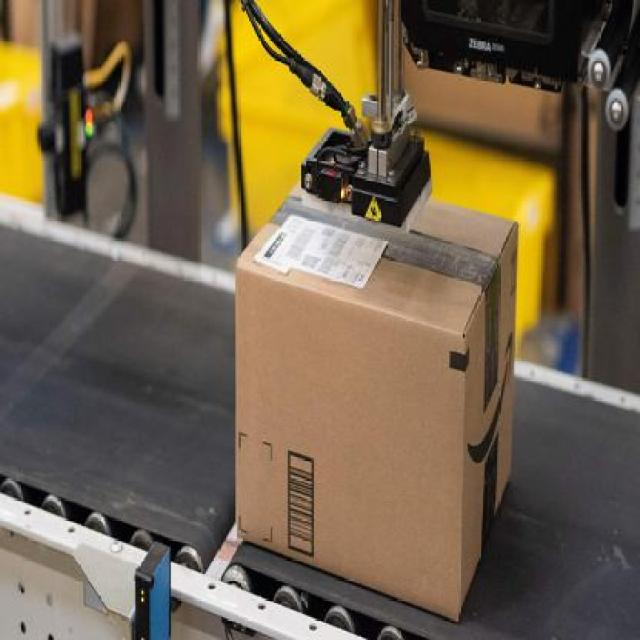cardboxes: (230, 162, 522, 628)
